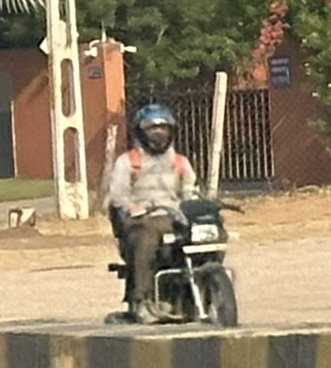BikeWithRider: (94, 97, 250, 335)
Helmet: (125, 99, 181, 156)
